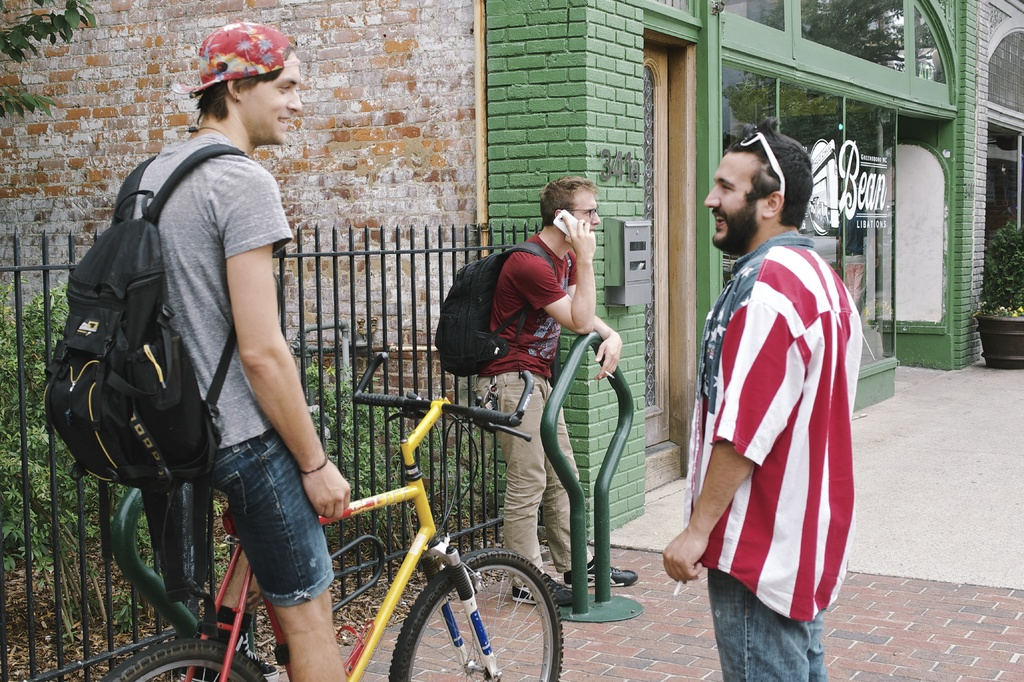Bike_away: (97, 344, 565, 678)
